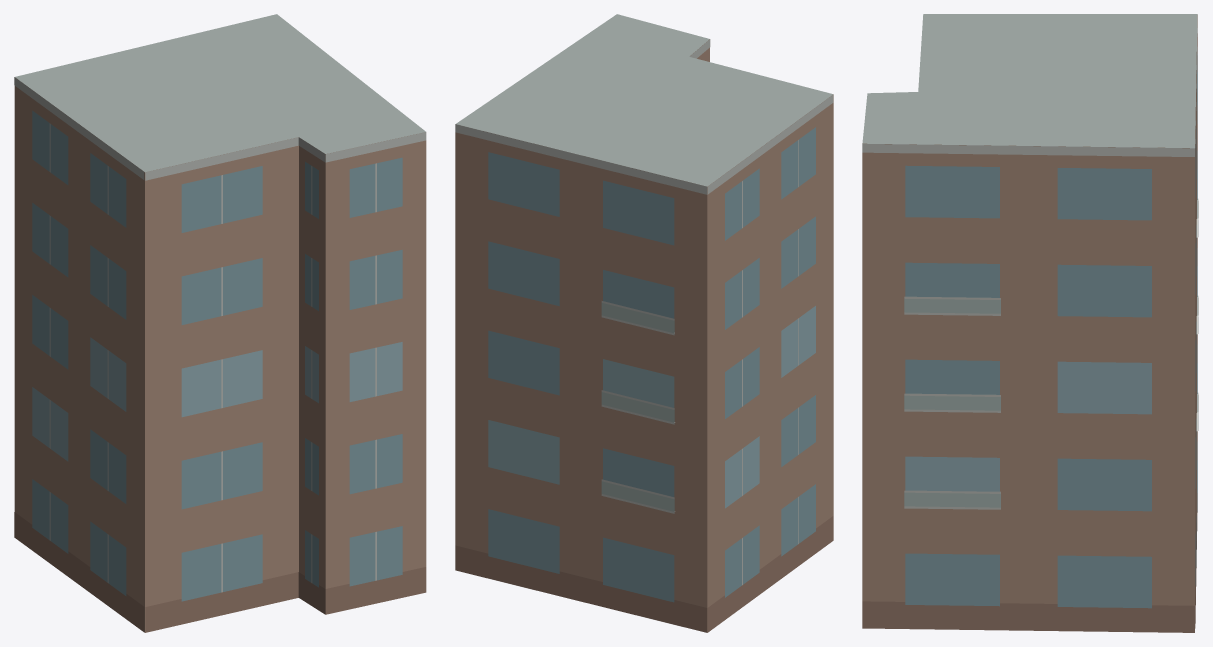
The model's file is survey-upis-32904573.glb.
The picture shows the model from 3 angles, left to right: view 1: azimuth 30°, elevation 25°; view 2: azimuth 150°, elevation 25°; view 3: azimuth 270°, elevation 25°; orthographic projection. The views are drawn at different scales.
Visible parts, largest first — view 1: survey-upis-32904573.tmp; view 2: survey-upis-32904573.tmp; view 3: survey-upis-32904573.tmp.
Boxes of the visible parts, x1,y1,x2,y2 form: survey-upis-32904573.tmp: (14,14,426,632); survey-upis-32904573.tmp: (455,14,833,632); survey-upis-32904573.tmp: (862,14,1198,632).
Size of the model in its own units: 7.85 by 13.2 by 8.31.
